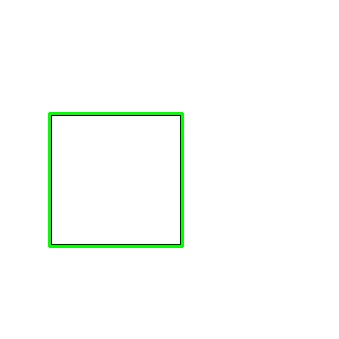line_segment: (48, 112, 184, 248)
